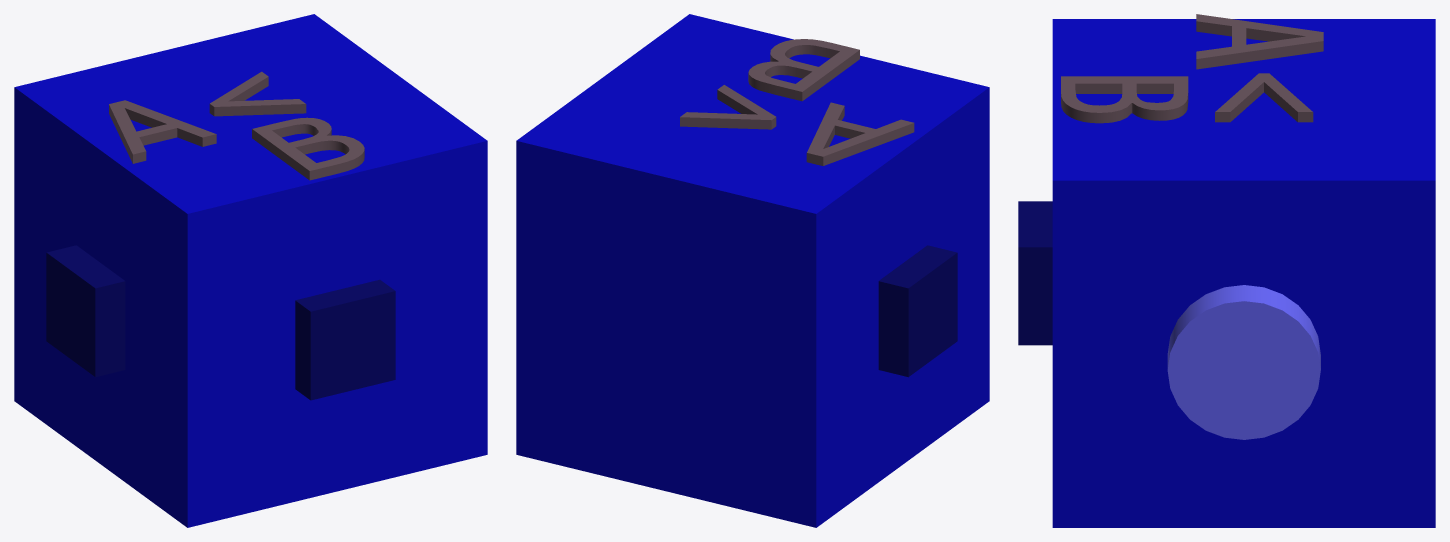
Rendered from LessThan_Logic.dae.
The picture shows the model from 3 angles, left to right: view 1: azimuth 30°, elevation 25°; view 2: azimuth 150°, elevation 25°; view 3: azimuth 270°, elevation 25°; orthographic projection. The views are drawn at different scales.
Parts seen in each view (by area): view 1: SketchUp (×3), B, A, instance_0; view 2: SketchUp (×2), B, A, instance_0; view 3: SketchUp (×3), B (×2), A, instance_0.
Part boxes in pixels (<box>): SketchUp (×3): <box>14,14,487,527</box>; B: <box>252,117,364,180</box>; A: <box>109,100,216,163</box>; instance_0: <box>209,71,306,116</box>; SketchUp (×2): <box>516,14,989,527</box>; B: <box>748,39,859,101</box>; A: <box>806,102,914,165</box>; instance_0: <box>680,85,776,129</box>; SketchUp (×3): <box>1018,19,1435,527</box>; B (×2): <box>1061,76,1188,123</box>; A: <box>1196,14,1323,69</box>; instance_0: <box>1215,73,1313,122</box>.
Bounding box in the file's own units: 47.24 × 42.91 × 40.55.
